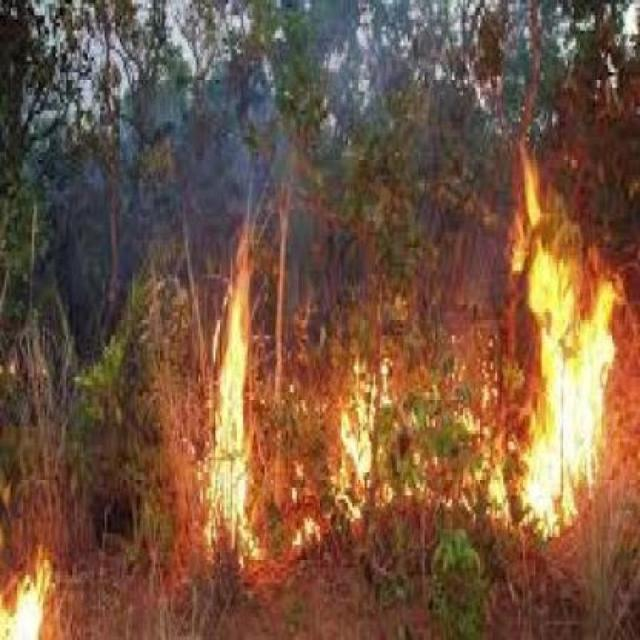Fire: (466, 175, 640, 568), (174, 240, 281, 575), (0, 536, 62, 638)
